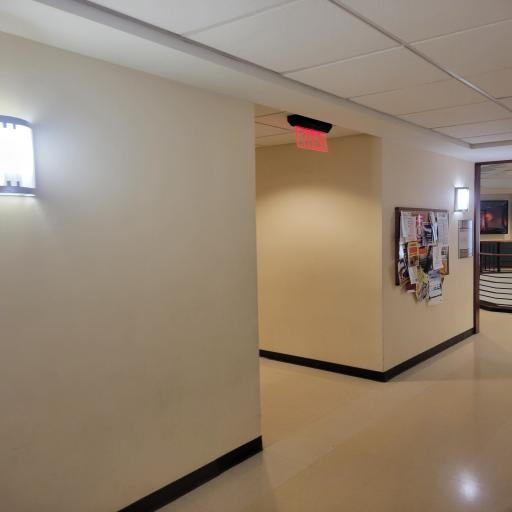exit sign: (285, 118, 339, 156)
poster board: (395, 203, 457, 307)
